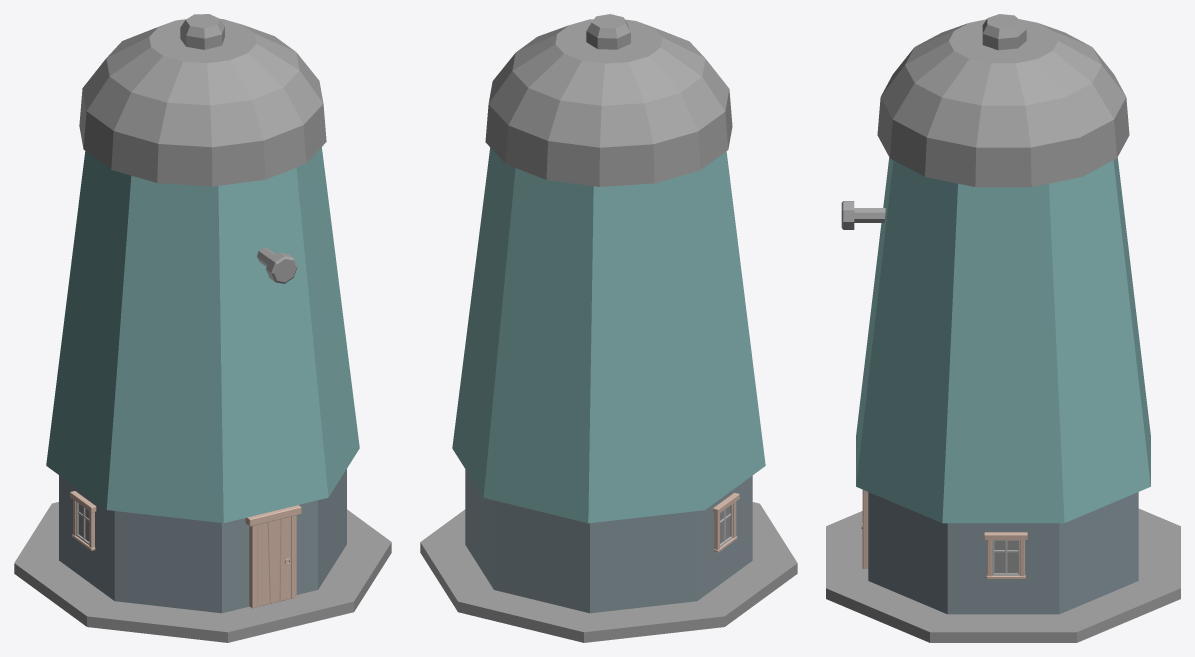
Rendered from fp_mill_dutch_tower.glb.
3 views of the same model, side by side, from view 1: azimuth 30°, elevation 25°; view 2: azimuth 150°, elevation 25°; view 3: azimuth 270°, elevation 25° (orthographic).
Visible parts, largest first — view 1: Cylinder079, Cylinder080, Cylinder078, Cylinder077, Box707; view 2: Cylinder079, Cylinder080, Cylinder078, Cylinder077, Box707; view 3: Cylinder079, Cylinder080, Cylinder078, Cylinder077, Box707, farmstructure_b001.
Boxes of the visible parts, x1,y1,x2,y2 form: Cylinder079: [46, 147, 359, 523]; Cylinder080: [79, 14, 326, 283]; Cylinder078: [59, 469, 346, 613]; Cylinder077: [14, 502, 391, 642]; Box707: [70, 491, 301, 608]; Cylinder079: [452, 147, 765, 523]; Cylinder080: [485, 14, 732, 186]; Cylinder078: [465, 469, 752, 613]; Cylinder077: [420, 502, 797, 642]; Box707: [713, 492, 739, 552]; Cylinder079: [856, 158, 1150, 523]; Cylinder080: [841, 14, 1129, 229]; Cylinder078: [868, 492, 1138, 614]; Cylinder077: [826, 508, 1180, 642]; Box707: [861, 490, 1027, 579]; farmstructure_b001: [992, 540, 1019, 575].
Size of the model in its own units: 1.17 by 1.98 by 1.17.
